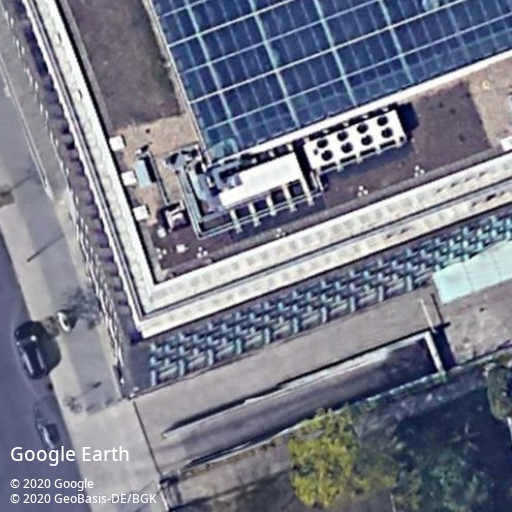Chiller: (303, 109, 408, 171)
